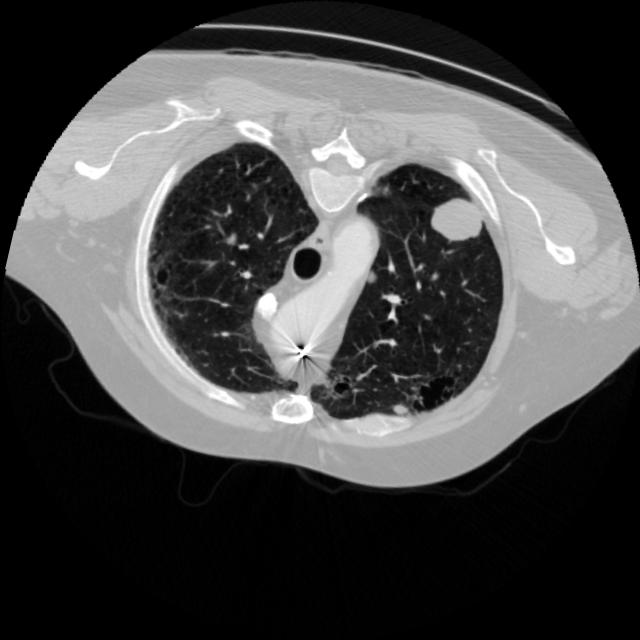nodule: (379, 391, 415, 426)
